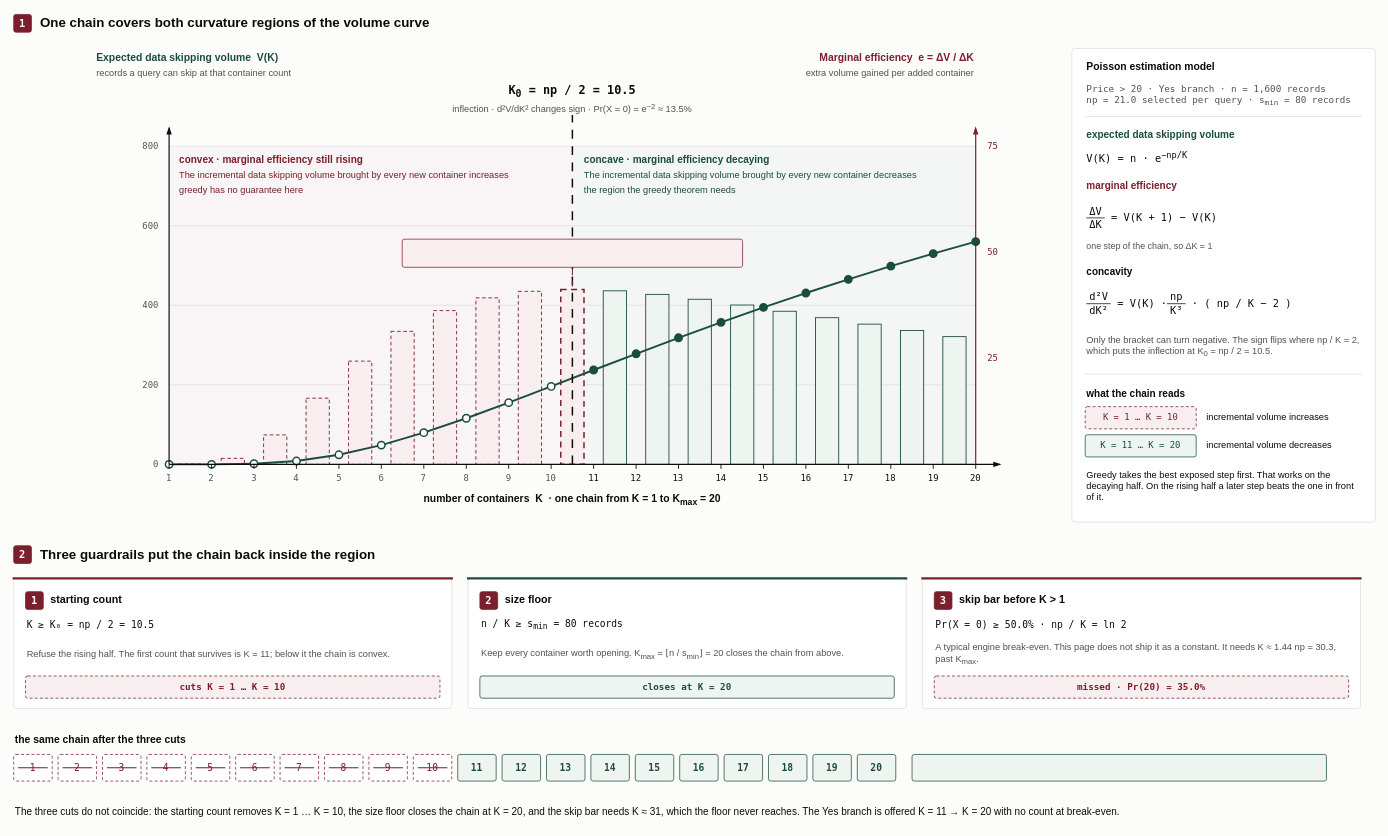
This 1388x836 diagram has some shape labels left out. The box of each missing label's shape, as (x1, y1, x2, y2) in pixels:
offered · K = 11 → K = 20: (911, 754, 1326, 781)
tallest step K = 10 → K = 11 · e = 41.2 · it straddles K 0: (401, 238, 743, 267)
